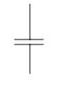Capacitor: (8, 27, 53, 55)
